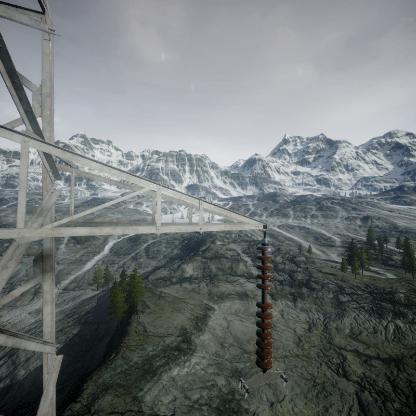insulator: (255, 239, 274, 372)
